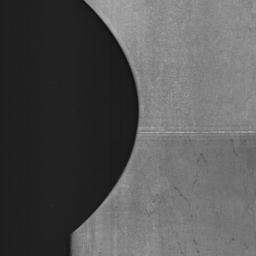Crescent gap: (74, 4, 139, 231)
